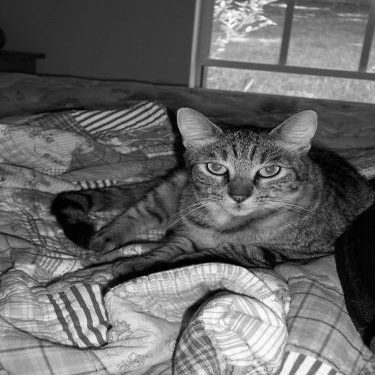cat: (22, 104, 368, 297)
